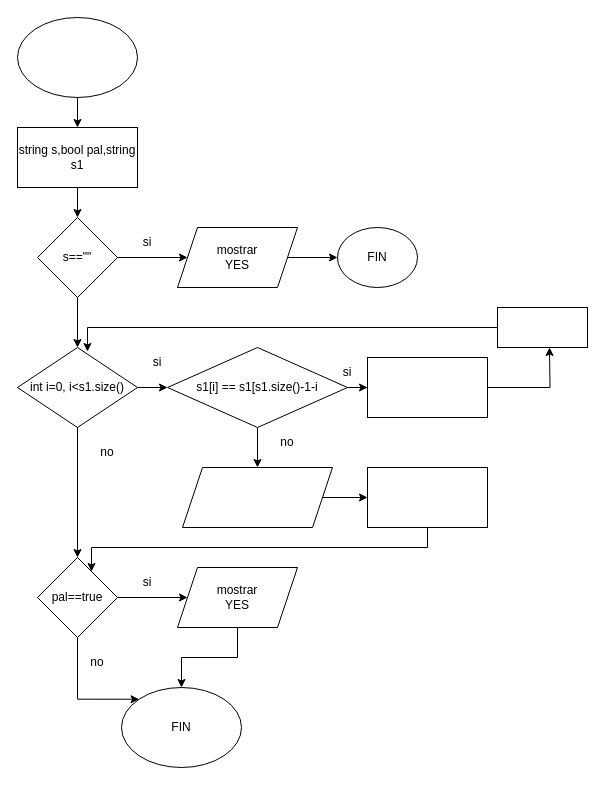
This 605x785 diagram has some shape labels left out. Here are the shapes that lost their labels. From the top down, the centre of each, then its label:
At point (77, 57): "INICIO 8".
At point (542, 327): "i++".
At point (427, 387): "pal=true".
At point (257, 497): "mostrar NO".
At point (427, 497): "pal=false".
